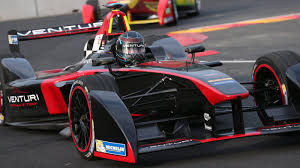FormulaOneCar: (1, 7, 300, 164)
